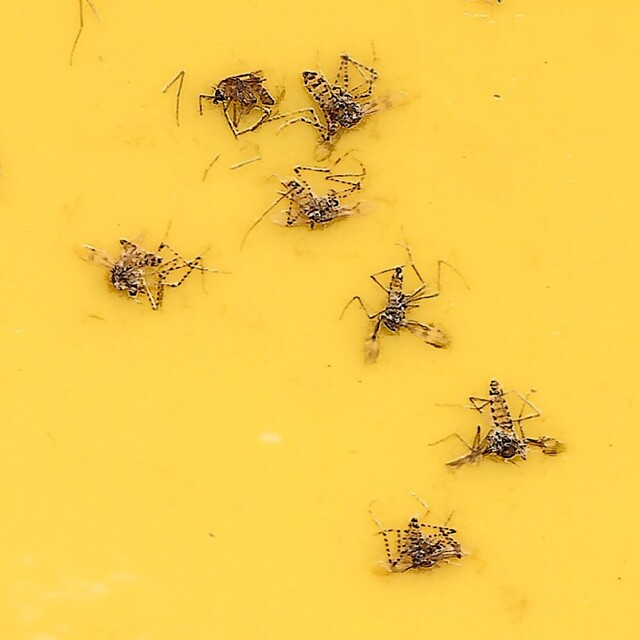Nematocera: (448, 381, 570, 468), (358, 263, 458, 363), (70, 242, 203, 311), (297, 67, 376, 143), (378, 517, 463, 573), (275, 169, 349, 230), (207, 67, 275, 126)
